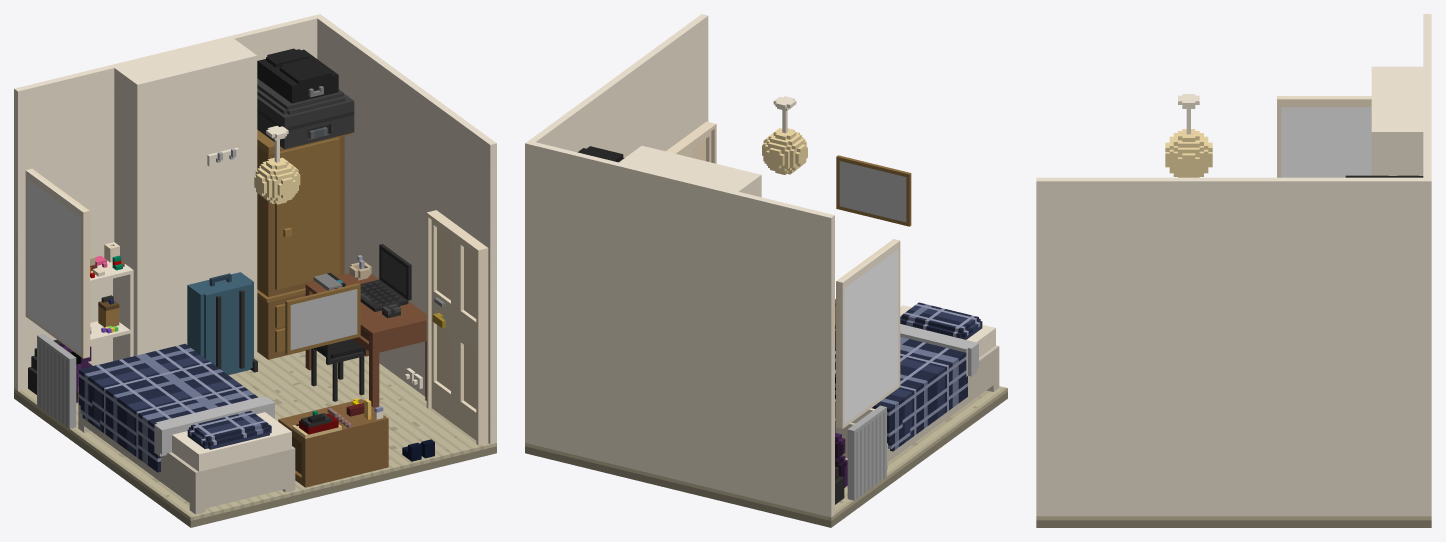
Rendered from My Room.obj.
3 views of the same model, side by side, from view 1: azimuth 30°, elevation 25°; view 2: azimuth 150°, elevation 25°; view 3: azimuth 270°, elevation 25° (orthographic). The views are drawn at different scales.
Bounding box in the file's own units: 92 × 89 × 92.
Materials: 1 (1 with a texture image).
